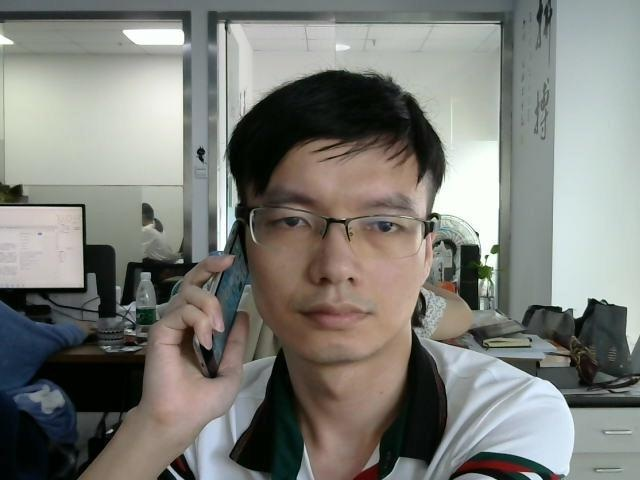hand: (143, 252, 249, 414)
